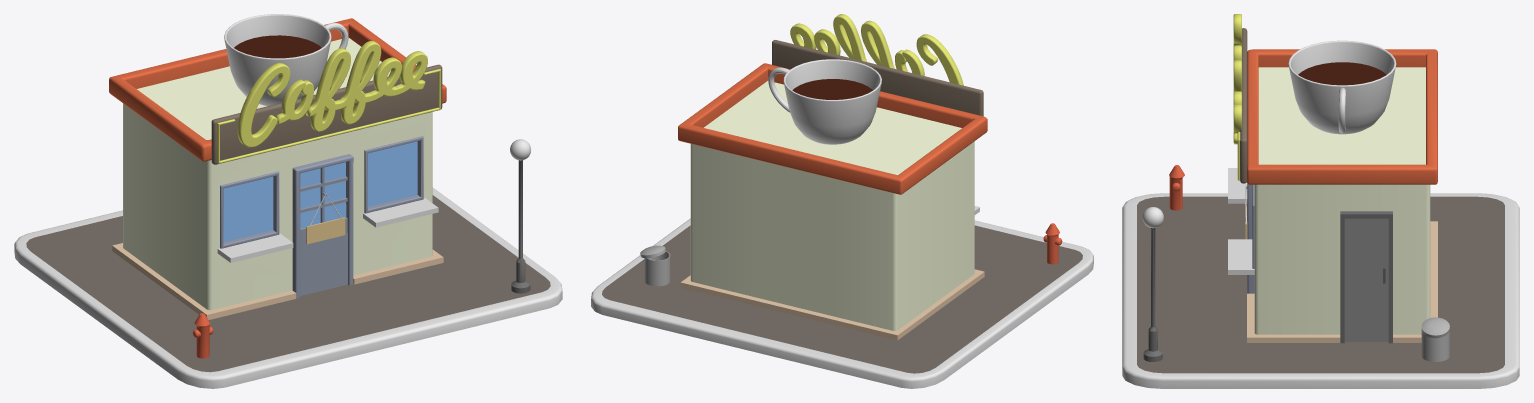
The model's file is coffee 1.fbx.
3 views of the same model, side by side, from view 1: azimuth 30°, elevation 25°; view 2: azimuth 150°, elevation 25°; view 3: azimuth 270°, elevation 25° (orthographic). The views are drawn at different scales.
Parts seen in each view (by area): view 1: ev, zemin, cofee, kahve, lamba, yanginMuslugu; view 2: ev, zemin, kahve, cofee, cop, yanginMuslugu; view 3: ev, zemin, kahve, lamba, cop, cofee, yanginMuslugu.
Boxes of the visible parts, x1,y1,x2,y2 form: ev: (109, 18, 446, 319); zemin: (14, 187, 562, 388); cofee: (237, 40, 427, 147); kahve: (224, 14, 348, 106); lamba: (510, 139, 530, 293); yanginMuslugu: (193, 313, 213, 358); ev: (678, 40, 987, 340); zemin: (591, 218, 1093, 388); kahve: (768, 59, 881, 144); cofee: (790, 14, 963, 85); cop: (640, 245, 670, 286); yanginMuslugu: (1043, 223, 1062, 264); ev: (1228, 28, 1437, 343); zemin: (1122, 193, 1519, 388); kahve: (1288, 40, 1396, 134); lamba: (1142, 207, 1163, 361); cop: (1421, 317, 1449, 361); cofee: (1233, 14, 1241, 144); yanginMuslugu: (1169, 165, 1184, 210).
Size of the model in its own units: 500 by 321 by 452.
